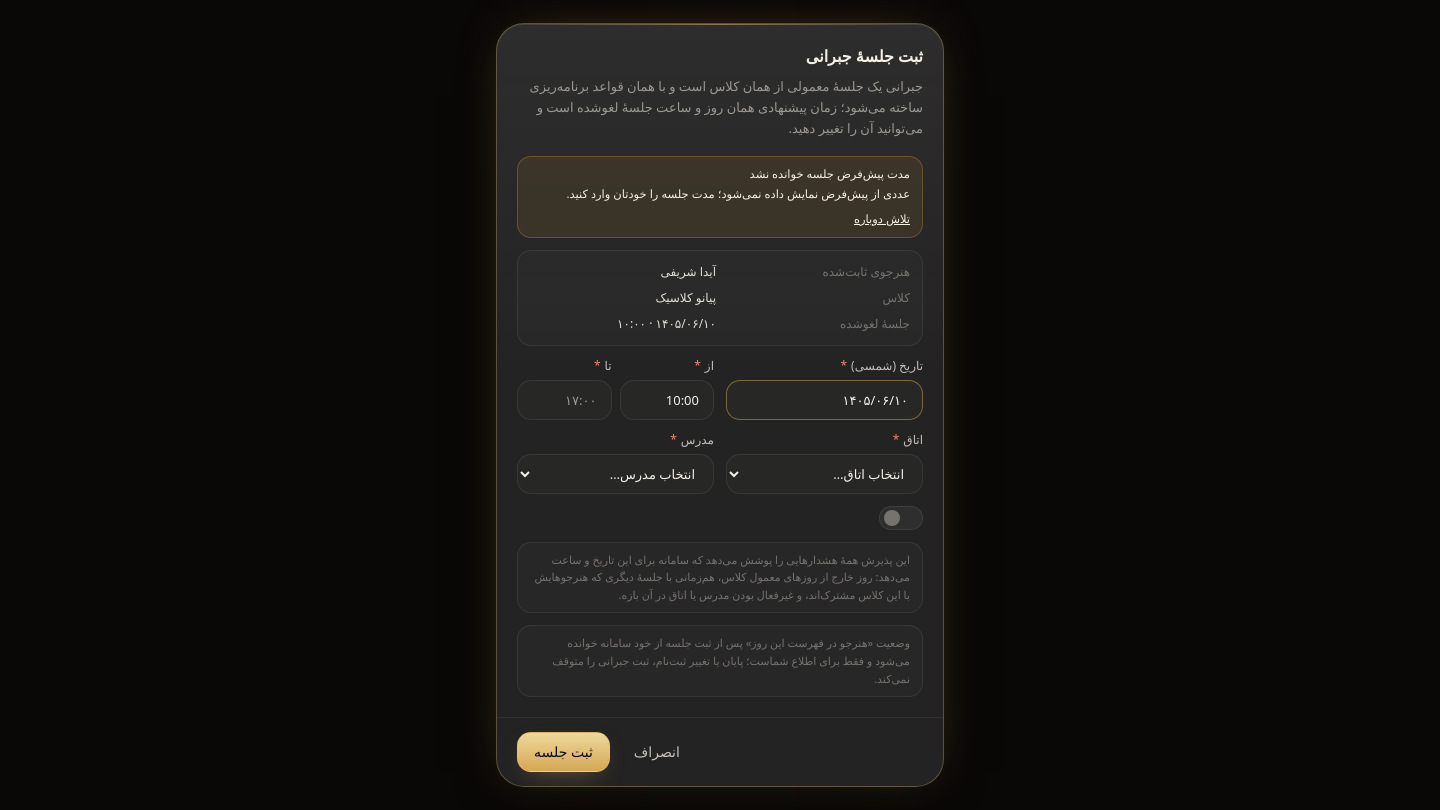
Scenario: the compensation dialog's duration prefill › reloads the organization rules through retry and recovers the prefill
The width and height of the screenshot is (1440, 810).
Expected: the text "مدت پیش‌فرض جلسه خوانده نشد" is shown, top-left (750, 166), bottom-right (910, 180)
Expected: the field with placeholder "۱۷:۰۰" is empty, top-left (517, 380), bottom-right (612, 420)
Click the button "تلاش دوباره" at (882, 219), box top-left (854, 210), bottom-right (910, 229)
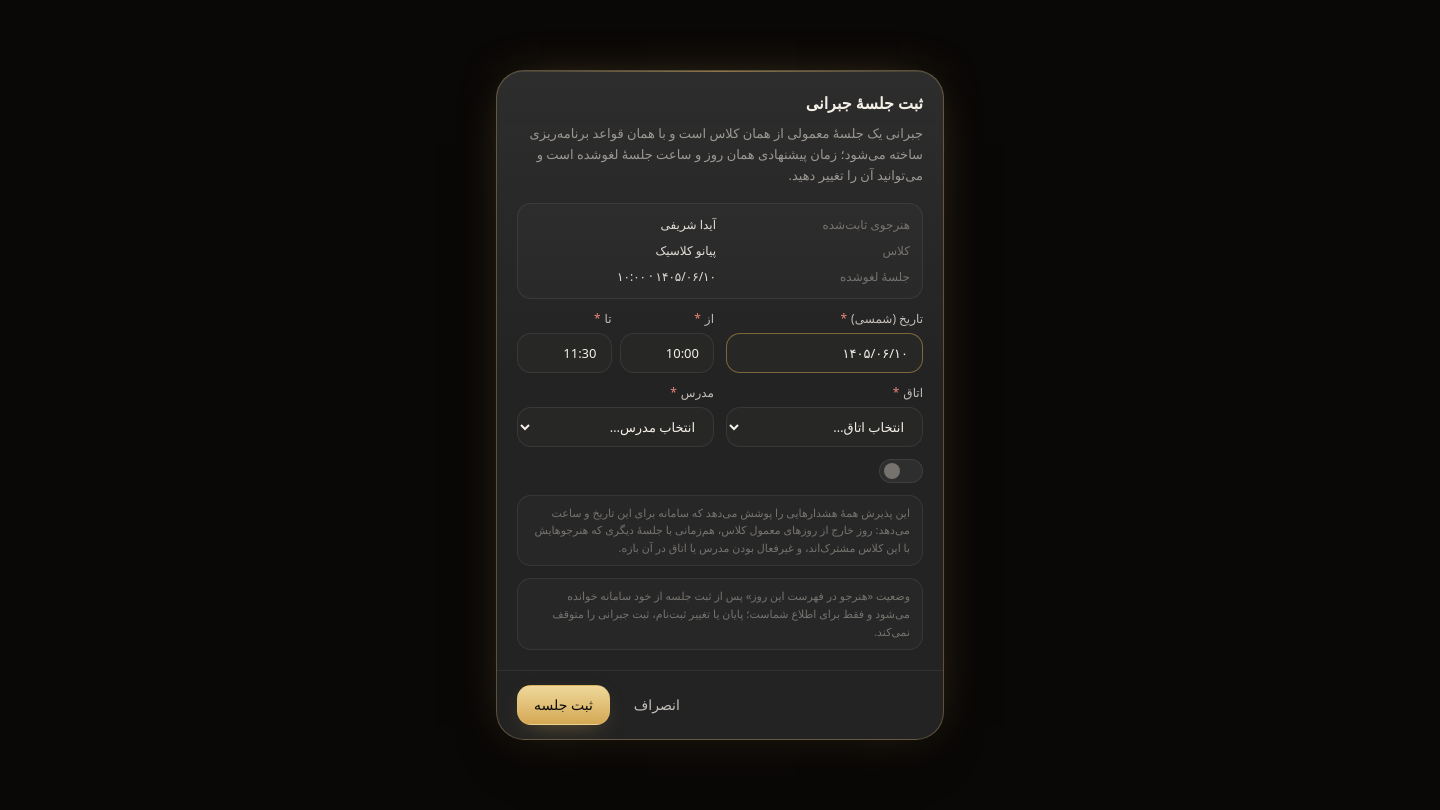
Expected: the text "مدت پیش‌فرض جلسه خوانده نشد" is gone
Expected: the field with placeholder "۱۷:۰۰" holds "11:30", top-left (517, 333), bottom-right (612, 373)
